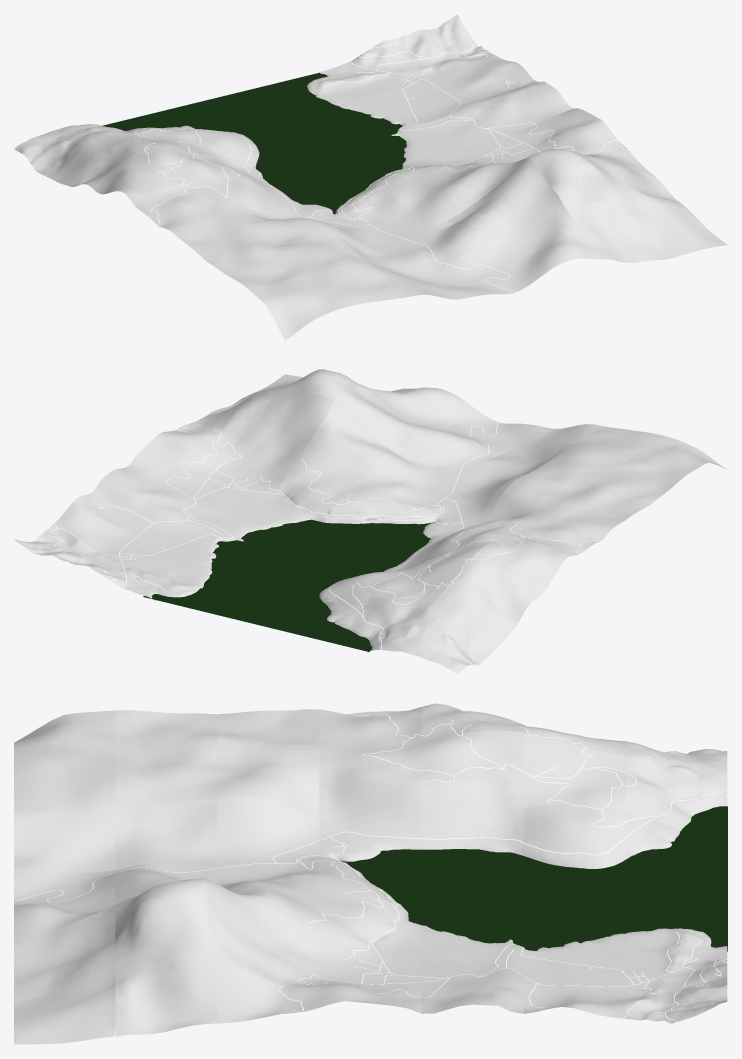
Rendered from Msh_Sect06_Terrain.glb.
3 views of the same model, one above another, from view 1: azimuth 30°, elevation 25°; view 2: azimuth 150°, elevation 25°; view 3: azimuth 270°, elevation 25° (orthographic). The views are drawn at different scales.
Parts seen in each view (by area): view 1: Msh_Water, Msh_Sec6_Bloque31, Msh_Sec6_Bloque39, Msh_Sec6_Bloque32, Msh_Sec6_Bloque40, Msh_Sec6_Bloque38, Msh_Sec6_Bloque23, Msh_Sec6_Bloque7, Msh_Sec6_Bloque46, Msh_Sec6_Bloque25, Msh_Sec6_Bloque33, Msh_Sec6_Bloque24 (+33 smaller); view 2: Msh_Water, Msh_Sec6_Bloque2, Msh_Sec6_Bloque37, Msh_Sec6_Bloque30, Msh_Sec6_Bloque1, Msh_Sec6_Bloque43, Msh_Sec6_Bloque3, Msh_Sec6_Bloque29, Msh_Sec6_Bloque41, Msh_Sec6_Bloque24, Msh_Sec6_Bloque36, Msh_Sec6_Bloque31 (+32 smaller); view 3: Msh_Water, Msh_Sec6_Bloque45, Msh_Sec6_Bloque10, Msh_Sec6_Bloque11, Msh_Sec6_Bloque21, Msh_Sec6_Bloque20, Msh_Sec6_Bloque19, Msh_Sec6_Bloque9, Msh_Sec6_Bloque16, Msh_Sec6_Bloque39, Msh_Sec6_Bloque38, Msh_Sec6_Bloque46 (+35 smaller).
Part boxes in pixels (x1,y1,x2,y2): Msh_Water: (102,72,406,214); Msh_Sec6_Bloque31: (461,158,562,244); Msh_Sec6_Bloque39: (563,200,664,262); Msh_Sec6_Bloque32: (499,204,600,278); Msh_Sec6_Bloque40: (394,14,495,79); Msh_Sec6_Bloque38: (525,149,625,203); Msh_Sec6_Bloque23: (359,184,460,239); Msh_Sec6_Bloque7: (247,275,347,340); Msh_Sec6_Bloque46: (627,201,727,259); Msh_Sec6_Bloque25: (436,244,537,296); Msh_Sec6_Bloque33: (331,39,431,96); Msh_Sec6_Bloque24: (398,212,499,269); Msh_Water: (143,519,434,651); Msh_Sec6_Bloque2: (433,557,533,648); Msh_Sec6_Bloque37: (232,394,333,466); Msh_Sec6_Bloque30: (296,402,396,483); Msh_Sec6_Bloque1: (393,604,495,674); Msh_Sec6_Bloque43: (130,431,231,489); Msh_Sec6_Bloque3: (472,536,572,599); Msh_Sec6_Bloque29: (257,465,358,522); Msh_Sec6_Bloque41: (53,493,153,549); Msh_Sec6_Bloque24: (398,428,499,481); Msh_Sec6_Bloque36: (193,456,294,508); Msh_Sec6_Bloque31: (334,388,430,454); Msh_Water: (340,806,727,951); Msh_Sec6_Bloque45: (115,936,217,1036); Msh_Sec6_Bloque10: (421,730,523,811); Msh_Sec6_Bloque11: (319,741,421,821); Msh_Sec6_Bloque21: (14,803,115,872); Msh_Sec6_Bloque20: (115,797,217,869); Msh_Sec6_Bloque19: (217,795,319,867); Msh_Sec6_Bloque9: (523,733,625,810); Msh_Sec6_Bloque16: (523,803,625,868); Msh_Sec6_Bloque39: (14,905,115,1002); Msh_Sec6_Bloque38: (115,878,217,962); Msh_Sec6_Bloque46: (14,963,115,1044).
Size of the model in its own units: 3519 by 541 by 3727.
